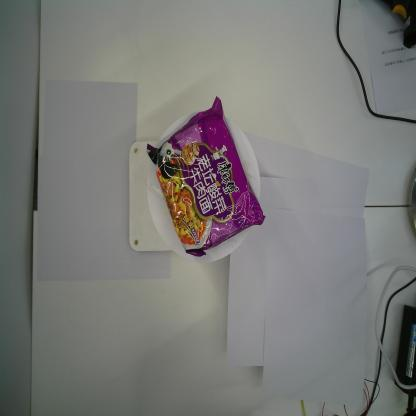Instant Noodles: (145, 94, 266, 258)
